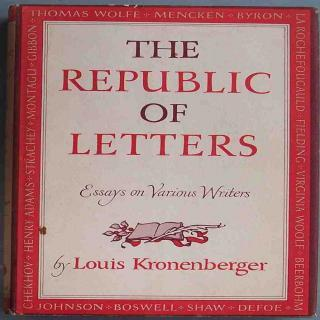book: (3, 3, 319, 317)
